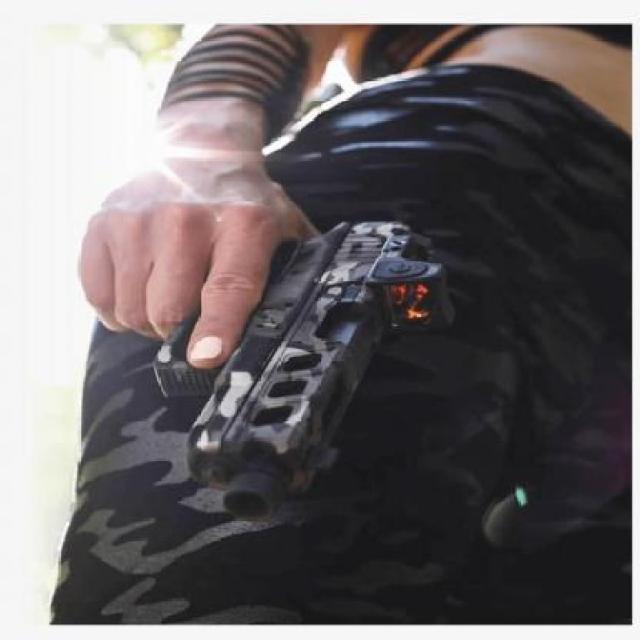Handgun: (82, 202, 470, 521)
